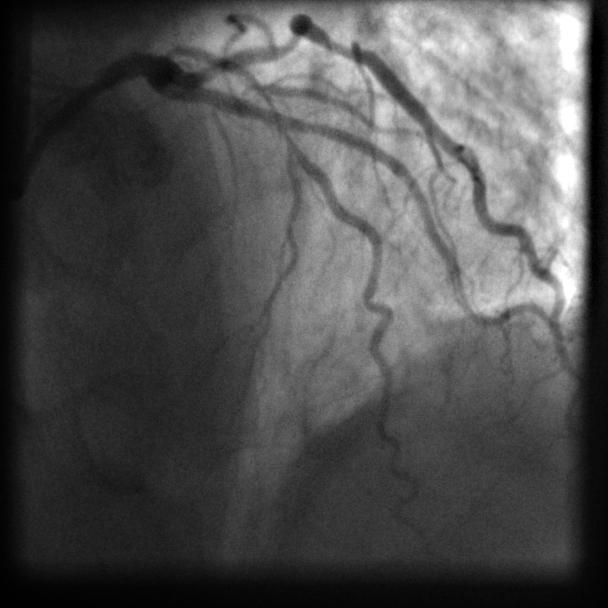Stenosis: (264, 88, 297, 154)
